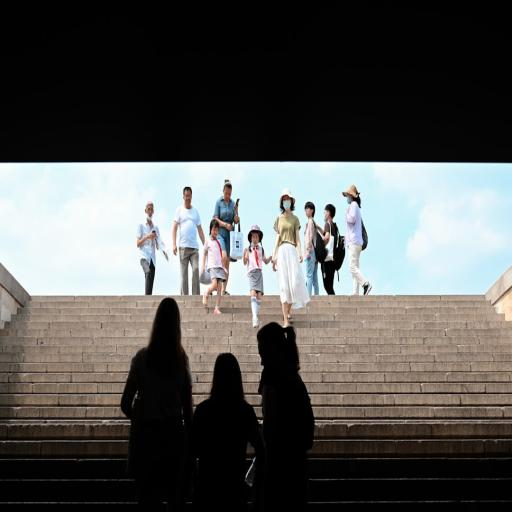face: (282, 195, 292, 210), (223, 187, 232, 201), (184, 190, 191, 208), (145, 205, 154, 216), (252, 232, 259, 245), (211, 226, 219, 237), (305, 207, 312, 218)
